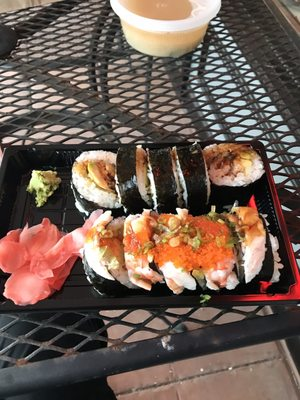curry: (7, 1, 299, 346)
salad: (109, 0, 221, 59)
